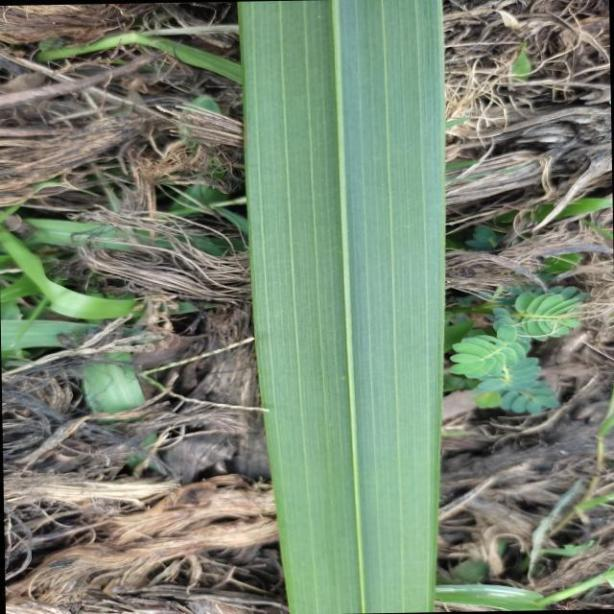Healthy: (242, 0, 446, 614)
